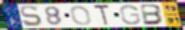8: (44, 5, 64, 26)
B: (140, 4, 166, 26)
G: (119, 4, 142, 25)
O: (69, 5, 93, 26)
S: (19, 5, 44, 28)
T: (93, 4, 111, 27)
